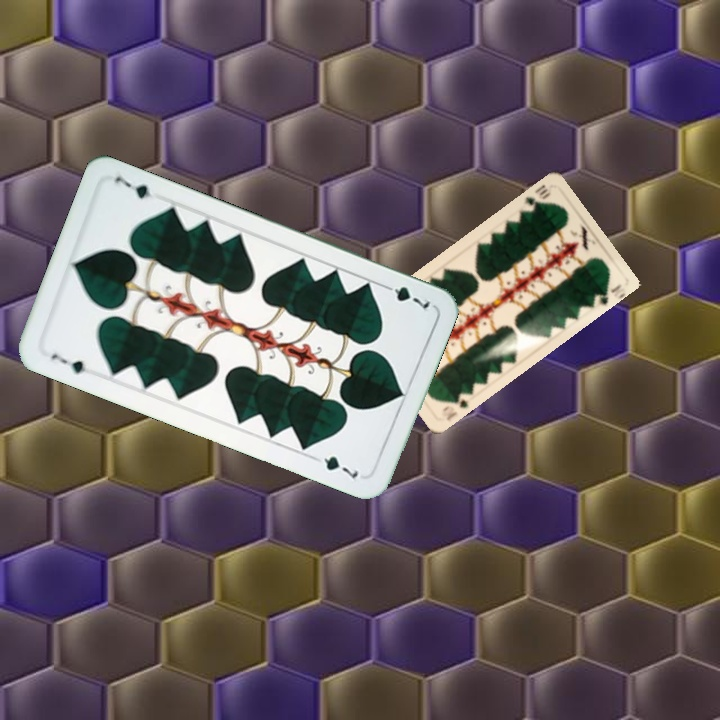G10: (518, 180, 553, 215), (438, 395, 471, 424)
G7: (377, 280, 433, 312), (47, 349, 95, 378)
